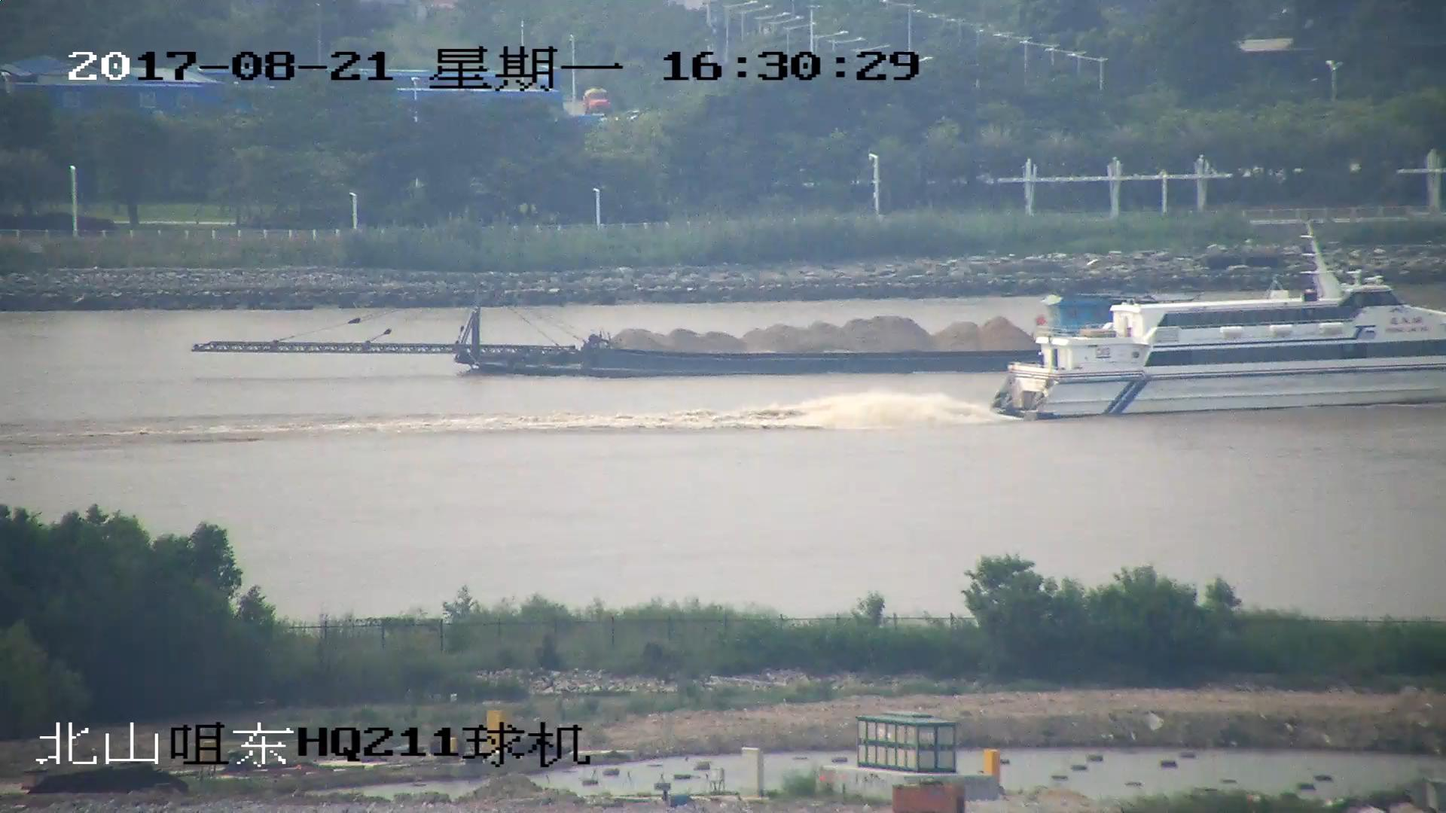ore carrier: (199, 280, 1047, 378)
passenger ship: (994, 220, 1445, 416)
